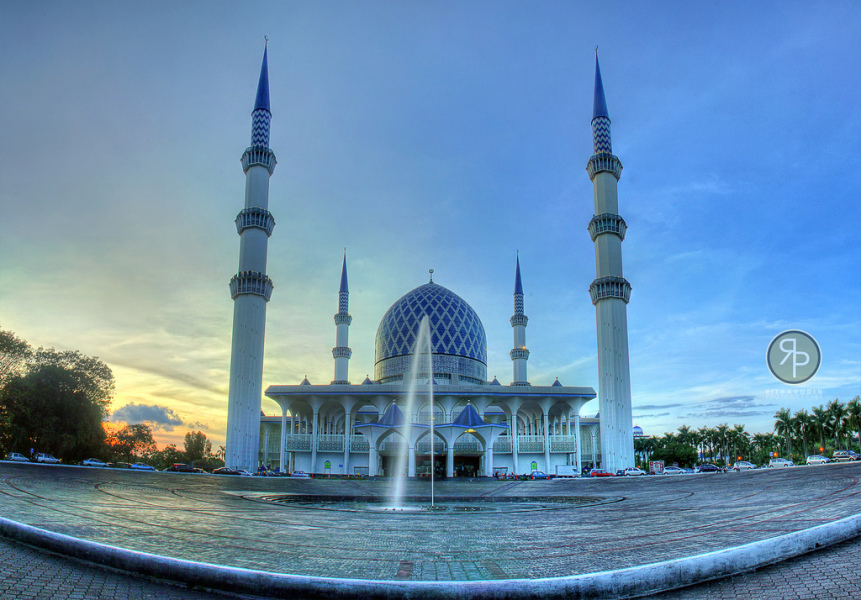Mosque: (211, 26, 649, 468)
